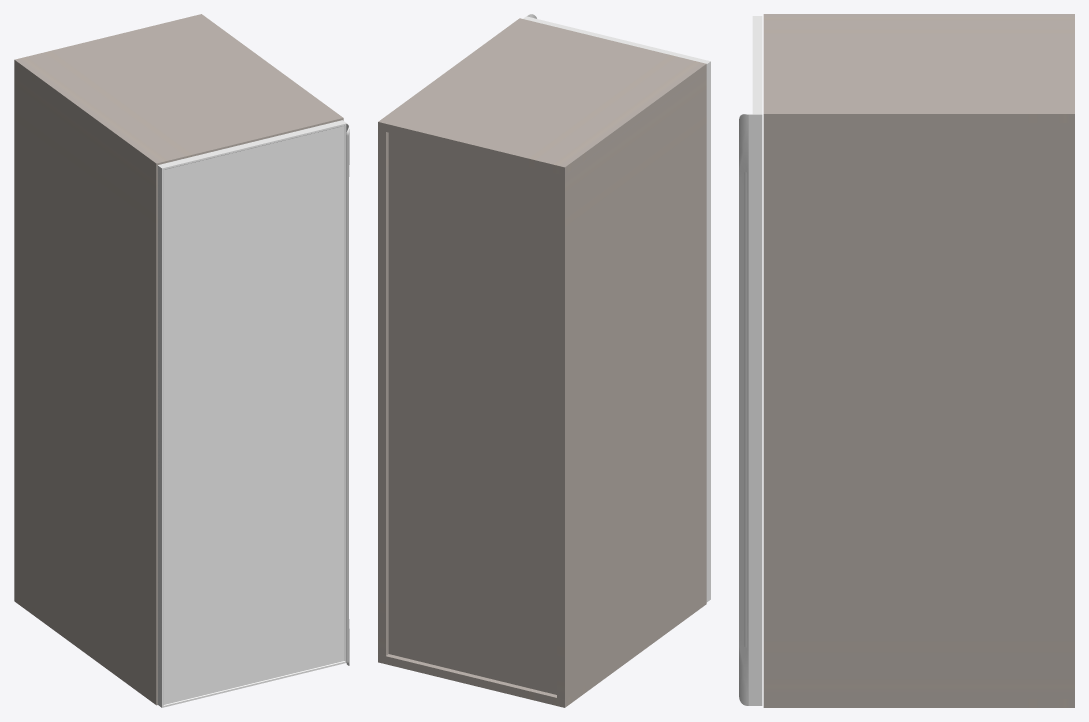
3 views of the same model, side by side, from view 1: azimuth 30°, elevation 25°; view 2: azimuth 150°, elevation 25°; view 3: azimuth 270°, elevation 25° (orthographic). The views are drawn at different scales.
Parts seen in each view (by area): view 1: Object_4.008, Object_20.002; view 2: Object_20.002, Object_4.008; view 3: Object_20.002, Object_4.008.
Part boxes in pixels (<box>): Object_4.008: <box>157,120,349,707</box>; Object_20.002: <box>14,14,343,705</box>; Object_20.002: <box>378,18,706,707</box>; Object_4.008: <box>523,14,710,602</box>; Object_20.002: <box>763,14,1074,707</box>; Object_4.008: <box>739,16,762,705</box>.
Size of the model in its own units: 0.434 by 1.2 by 0.6149.
Materials: 3 (1 with a texture image).
